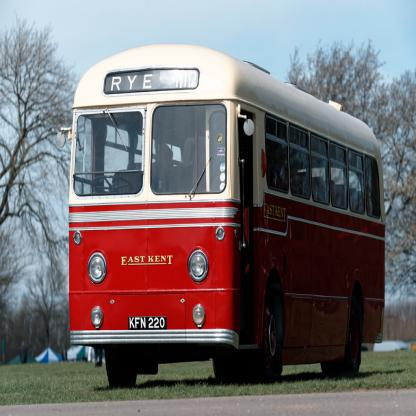Bus: (56, 43, 385, 388)
